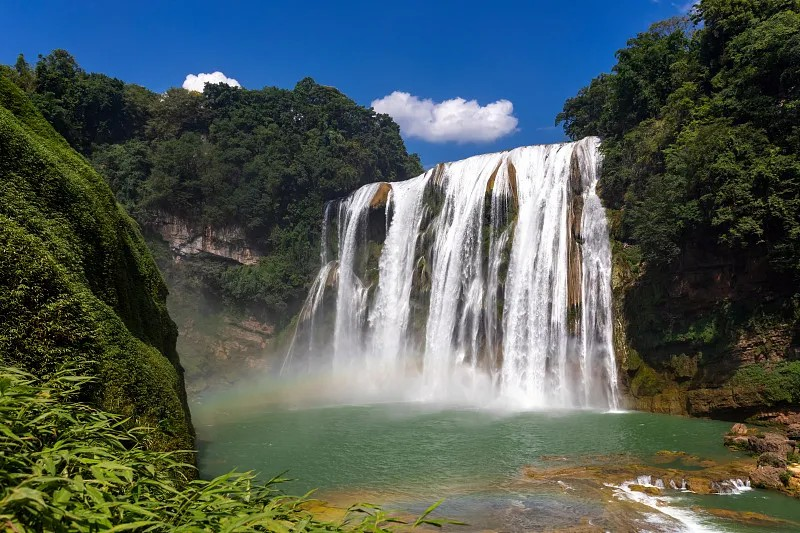Huangguoshu: (283, 137, 618, 411)
